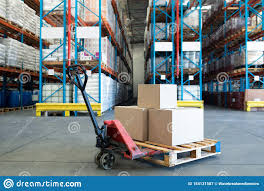Pallet Jack: (65, 63, 224, 171)
